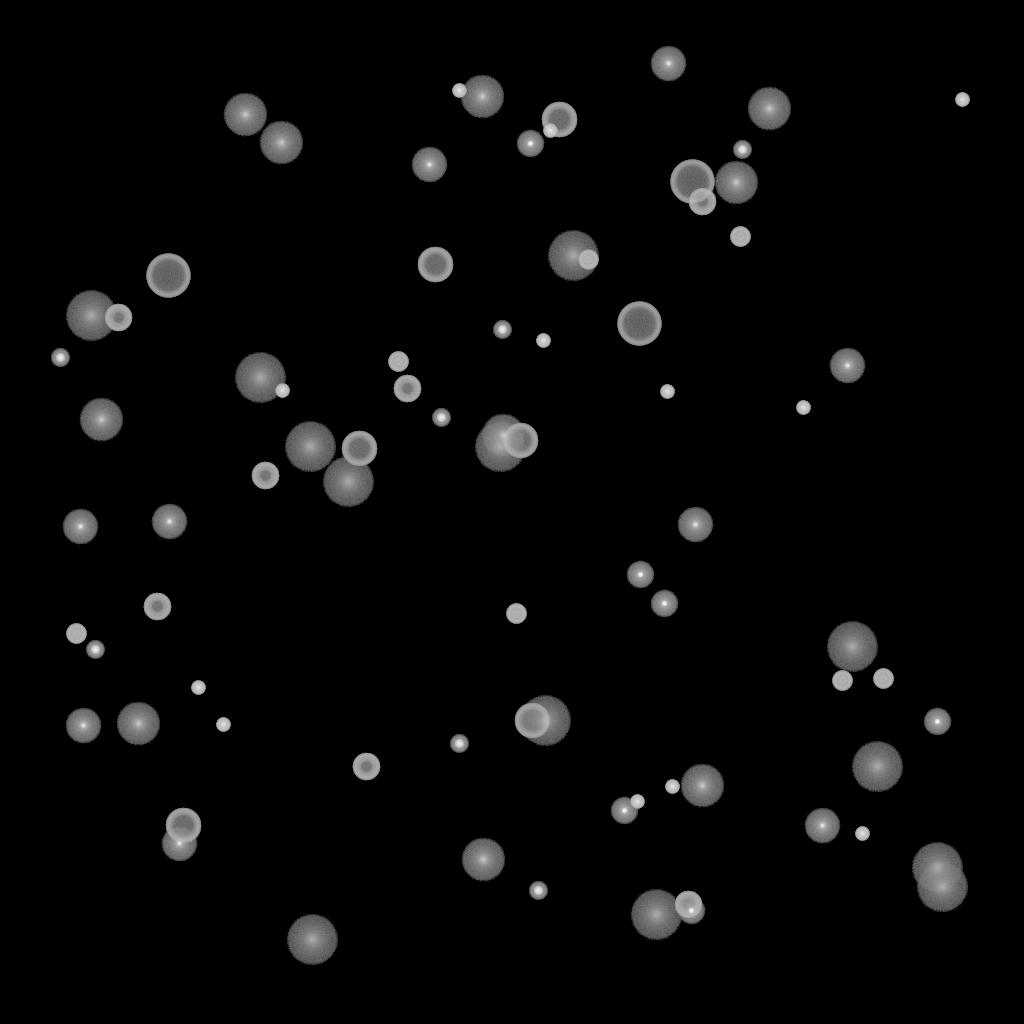depth:-10: (923, 708, 951, 736), (650, 590, 678, 618), (626, 561, 654, 589), (610, 797, 638, 825), (516, 130, 544, 158), (677, 897, 705, 925)
depth:-20: (450, 735, 468, 753), (493, 321, 511, 339), (529, 882, 547, 900), (51, 349, 69, 367), (432, 409, 450, 427), (86, 641, 104, 659), (733, 141, 751, 159)
depth:-30: (543, 124, 557, 138), (216, 718, 230, 732), (855, 827, 869, 841), (275, 384, 289, 398), (660, 385, 674, 399), (452, 84, 466, 98), (796, 401, 810, 415), (191, 681, 205, 695), (665, 780, 679, 794), (955, 93, 969, 107), (630, 795, 644, 809), (536, 334, 550, 348)
depth:-40: (873, 669, 893, 689), (388, 352, 408, 372), (66, 624, 86, 644), (832, 671, 852, 691), (578, 250, 598, 270), (730, 227, 750, 247), (506, 604, 526, 624)
depth:-50: (143, 593, 171, 621), (393, 375, 421, 403), (352, 753, 380, 781), (104, 304, 132, 332), (688, 188, 716, 216), (251, 462, 279, 490), (674, 891, 702, 919)
depth:-60: (541, 102, 577, 138), (514, 703, 550, 739), (417, 247, 453, 283), (341, 431, 377, 467), (165, 808, 201, 844), (502, 423, 538, 459)
depth:-70: (670, 160, 714, 204), (146, 254, 190, 298), (617, 302, 661, 346)
depth:0: (65, 708, 101, 744), (62, 509, 98, 545), (804, 808, 840, 844), (650, 46, 686, 82), (829, 348, 865, 384), (161, 826, 197, 862), (677, 507, 713, 543), (151, 504, 187, 540), (411, 147, 447, 183)
depth:10: (223, 93, 267, 137), (461, 838, 505, 882), (481, 414, 525, 458), (116, 702, 160, 746), (747, 87, 791, 131), (460, 75, 504, 119), (79, 398, 123, 442), (714, 161, 758, 205), (680, 764, 724, 808), (259, 121, 303, 165)
depth:20: (547, 231, 599, 281), (65, 291, 117, 341), (916, 862, 968, 912), (911, 843, 963, 893), (284, 422, 336, 472), (826, 622, 878, 672), (234, 353, 286, 403), (286, 915, 338, 965), (630, 890, 682, 940), (474, 422, 526, 472), (851, 742, 903, 792), (322, 457, 374, 507), (519, 696, 571, 746)
